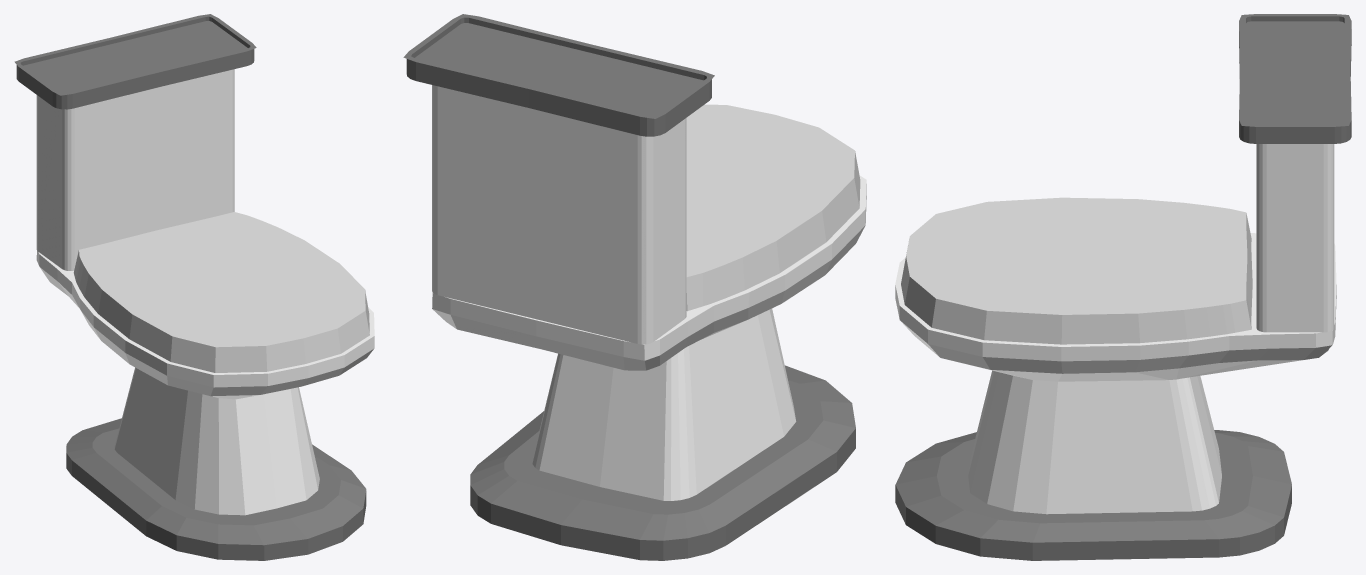
Rendered from Prop_Toilet_02.fbx.
3 renders of one model, left to right at view 1: azimuth 30°, elevation 25°; view 2: azimuth 150°, elevation 25°; view 3: azimuth 270°, elevation 25°, orthographic. The views are drawn at different scales.
Visible parts, largest first — view 1: Prop_Toilet_02; view 2: Prop_Toilet_02; view 3: Prop_Toilet_02.
Boxes of the visible parts, x1,y1,x2,y2 form: Prop_Toilet_02: (14,14,374,560); Prop_Toilet_02: (403,14,866,560); Prop_Toilet_02: (895,14,1351,560).
Bounding box in the file's own units: 43.7 × 70.07 × 67.
